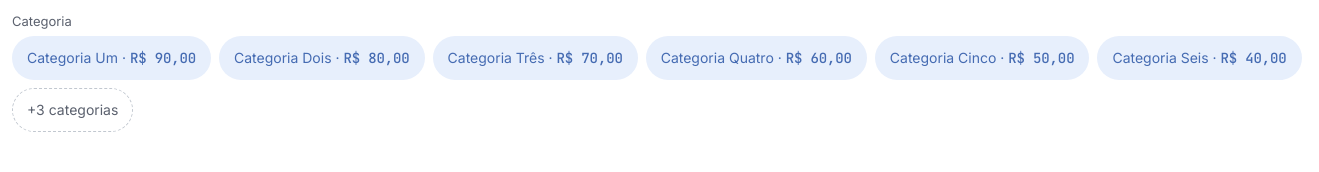
Test: "+N categorias" revela, e não corta (LST-01, AC 4) › acionado de novo, volta às 6
Click the button "+3 categorias".
click(73, 110)  # box [12, 88, 133, 132]
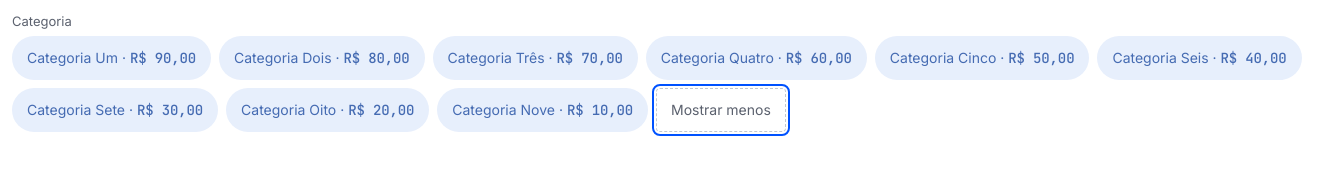
Click the button named "+3 categorias".
click(721, 110)  # box [656, 88, 786, 132]
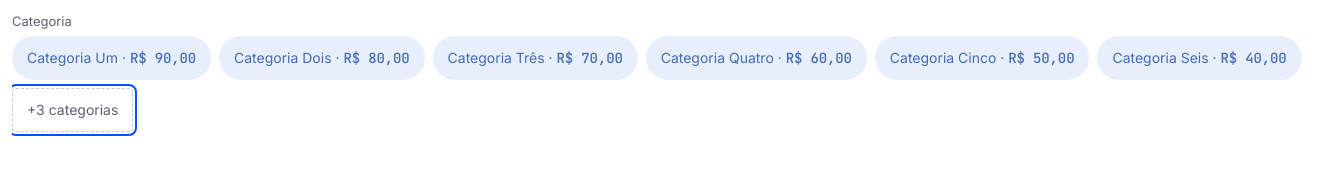
Expected: the button "+3 categorias" is collapsed, [12, 88, 133, 132]
